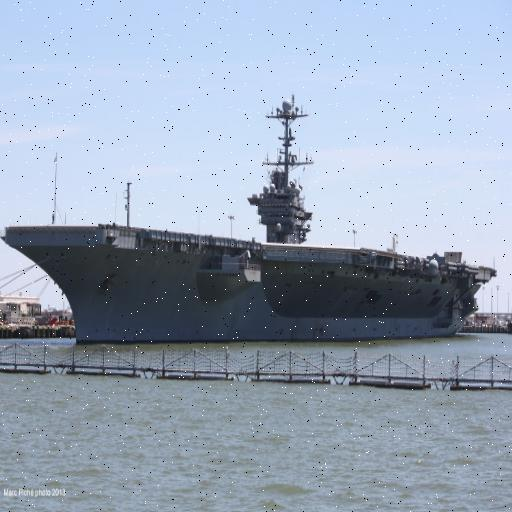Portanaves: (1, 79, 500, 351)
